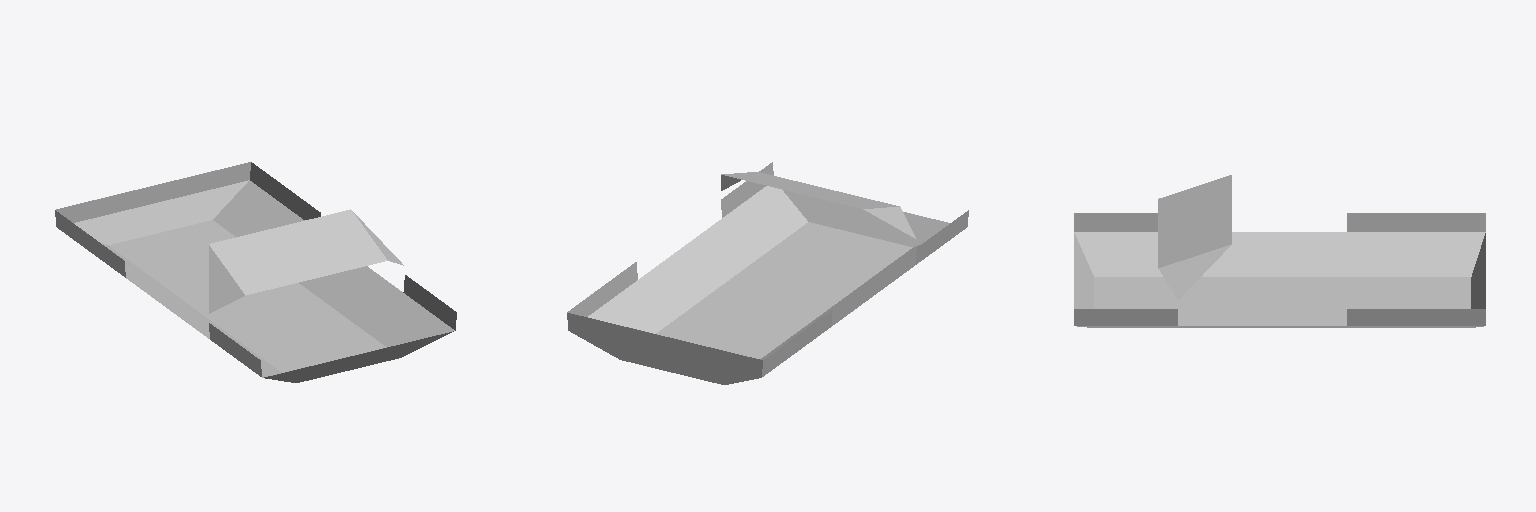
The model's file is flying-car_frame.obj.
3 views of the same model, side by side, from view 1: azimuth 30°, elevation 25°; view 2: azimuth 150°, elevation 25°; view 3: azimuth 270°, elevation 25° (orthographic).
Visible parts, largest first — view 1: pCube2; view 2: pCube2; view 3: pCube2.
Boxes of the visible parts, box(x1,y1,x2,y2) form: pCube2: box(55, 162, 456, 382); pCube2: box(567, 162, 968, 384); pCube2: box(1074, 175, 1485, 327).
Bounding box in the file's own units: 1.38 × 0.6259 × 2.5.